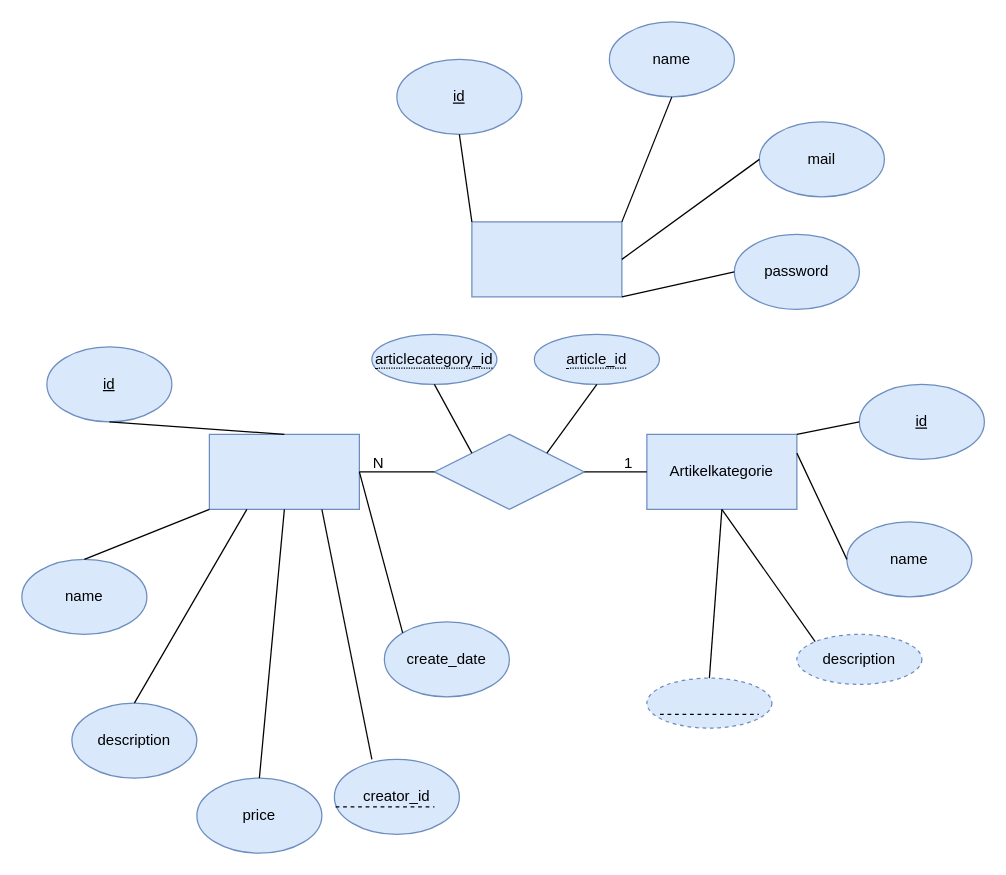
Some shapes in this 1006 by 875 pixel diagram are drawn without their labels. Here are the shapes that lost their labels. From the top down, the centre of each, then its label:
the point at 546,259: User
the point at 283,471: Article
the point at 508,471: has
the point at 709,702: parent_id
